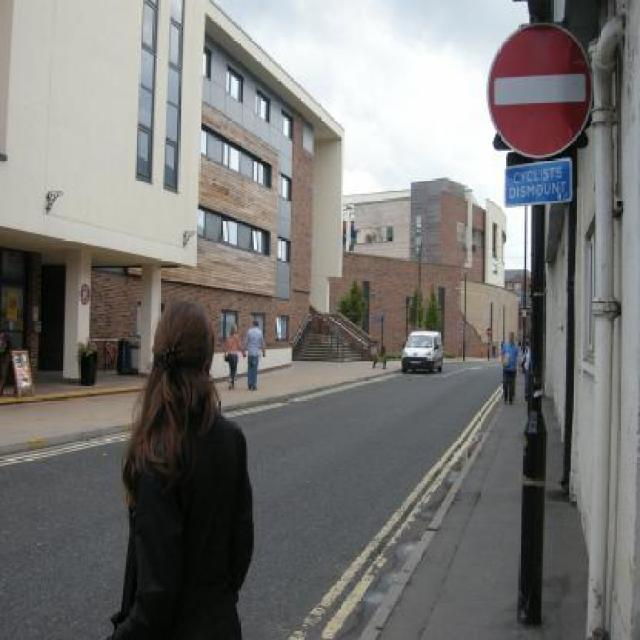Zakaz wjazdu: (484, 22, 596, 160)
